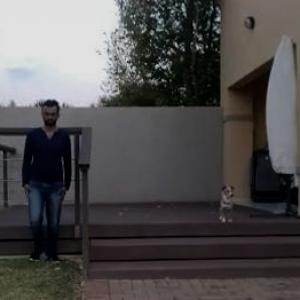follow: (18, 96, 71, 265)
